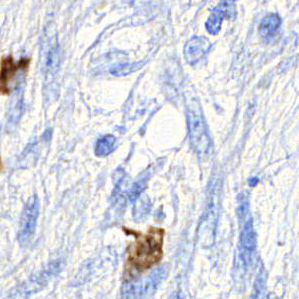Lymphocyte: (121, 226, 166, 274)
